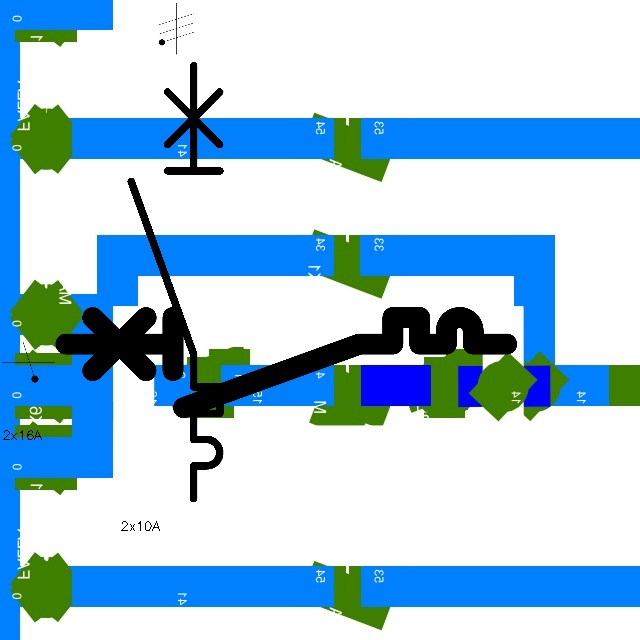interruptor_termomagnetico: (54, 306, 518, 419), (120, 54, 231, 509)
